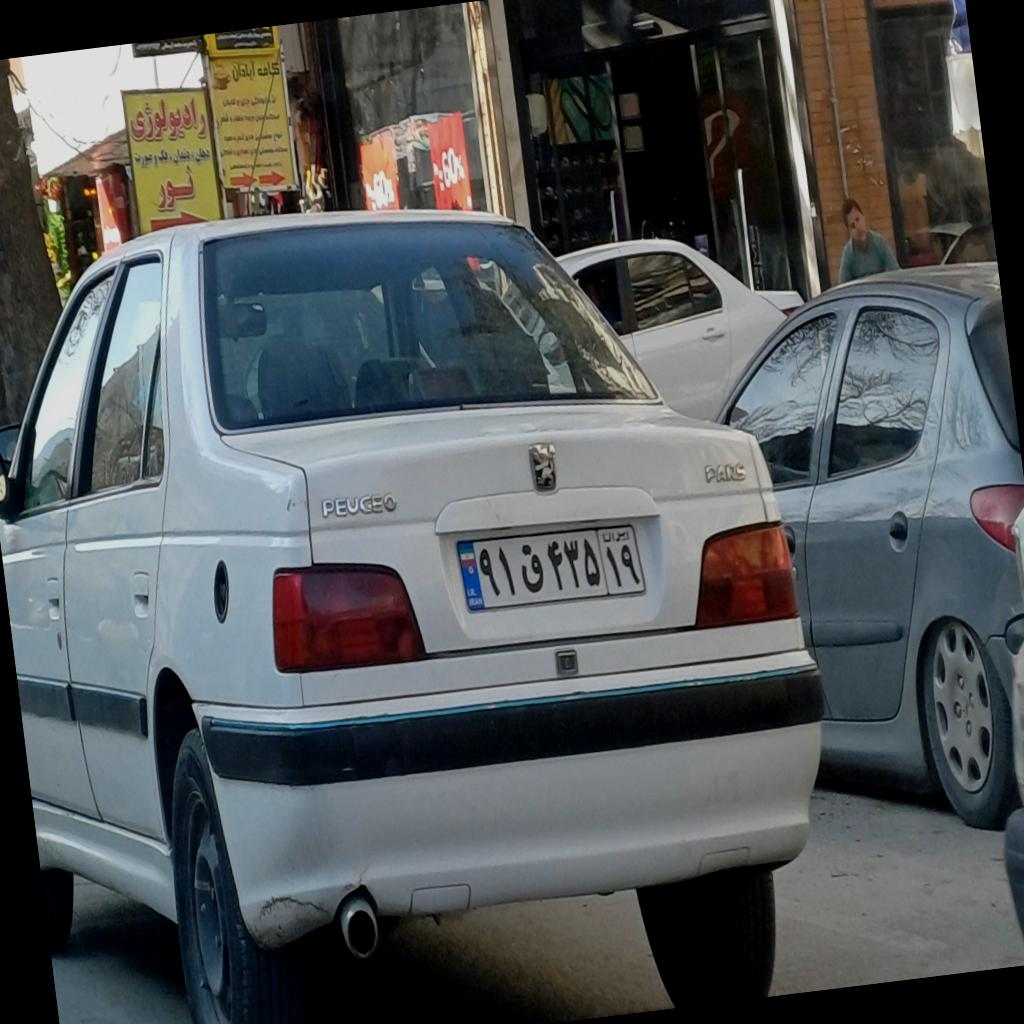Plates: (456, 520, 648, 612)
